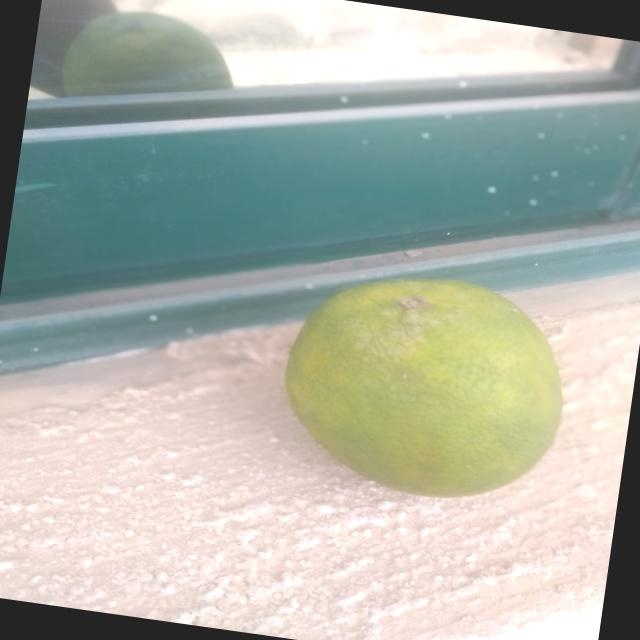agrume: (259, 249, 576, 539)
